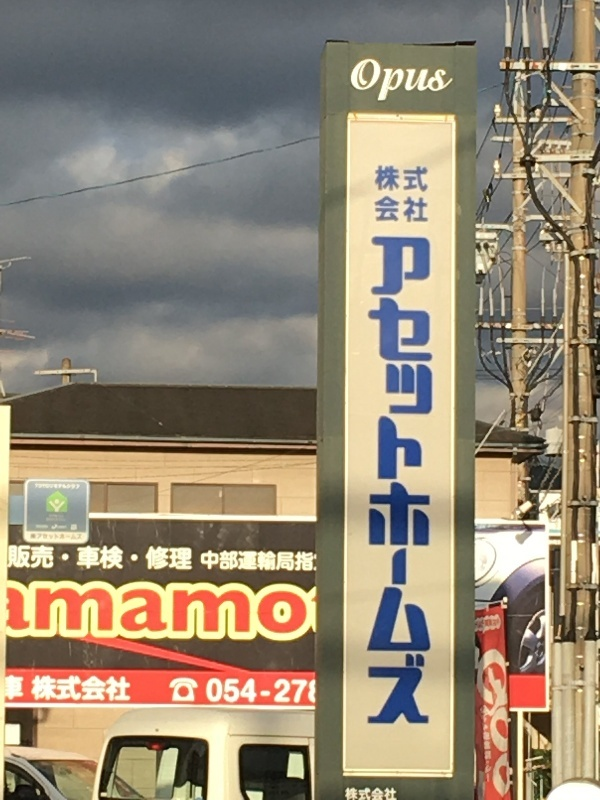text: (369, 236, 384, 728), (385, 236, 400, 728), (401, 236, 416, 728), (417, 236, 432, 728), (433, 236, 435, 728), (17, 588, 32, 636), (33, 588, 48, 636), (49, 588, 64, 636), (65, 588, 80, 636), (81, 588, 96, 636), (97, 588, 112, 636), (113, 588, 128, 636), (129, 588, 144, 636), (145, 588, 160, 636), (161, 588, 176, 636), (177, 588, 192, 636), (193, 588, 208, 636), (209, 588, 224, 636), (225, 588, 240, 636), (241, 588, 256, 636), (257, 588, 272, 636), (273, 588, 288, 636), (289, 588, 304, 636), (353, 58, 368, 104), (369, 58, 384, 104), (385, 58, 400, 104), (401, 58, 416, 104), (417, 58, 432, 104), (433, 58, 448, 104), (483, 732, 496, 782), (305, 588, 317, 636), (6, 588, 16, 636), (385, 166, 400, 193), (401, 166, 416, 193), (385, 196, 400, 222), (401, 196, 416, 222), (209, 678, 224, 704), (225, 678, 240, 704), (241, 678, 256, 704), (257, 678, 272, 704), (273, 678, 288, 704), (289, 678, 304, 704), (17, 675, 32, 701), (33, 675, 48, 701), (49, 675, 64, 701), (65, 675, 80, 701), (81, 675, 96, 701), (97, 675, 112, 701), (113, 675, 128, 701), (177, 547, 193, 570), (81, 546, 96, 570), (97, 546, 112, 570), (17, 545, 32, 568), (33, 545, 48, 568), (161, 547, 176, 570), (209, 550, 224, 572), (225, 550, 240, 572), (241, 550, 256, 572), (257, 550, 272, 572), (273, 550, 288, 572), (289, 550, 304, 572), (417, 166, 429, 193), (146, 547, 160, 570), (417, 196, 429, 222), (305, 678, 316, 704), (113, 546, 124, 570), (374, 196, 384, 222), (6, 675, 16, 701), (375, 166, 384, 193), (449, 58, 454, 104), (481, 616, 496, 631), (305, 550, 314, 572), (353, 787, 368, 800), (369, 787, 384, 800), (8, 545, 16, 568), (385, 787, 397, 800), (201, 550, 208, 572), (49, 545, 54, 568), (33, 533, 48, 540), (49, 533, 64, 540), (65, 533, 80, 540), (345, 787, 352, 800), (49, 484, 64, 490), (65, 484, 80, 490), (35, 484, 48, 490), (475, 616, 480, 631), (77, 546, 80, 570), (497, 616, 499, 631), (207, 678, 208, 704), (129, 675, 130, 701), (31, 533, 32, 540), (81, 533, 82, 540)
